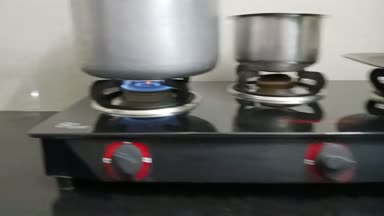flame_gas_off: (235, 62, 363, 183)
flame_gas_on: (78, 69, 194, 187)
